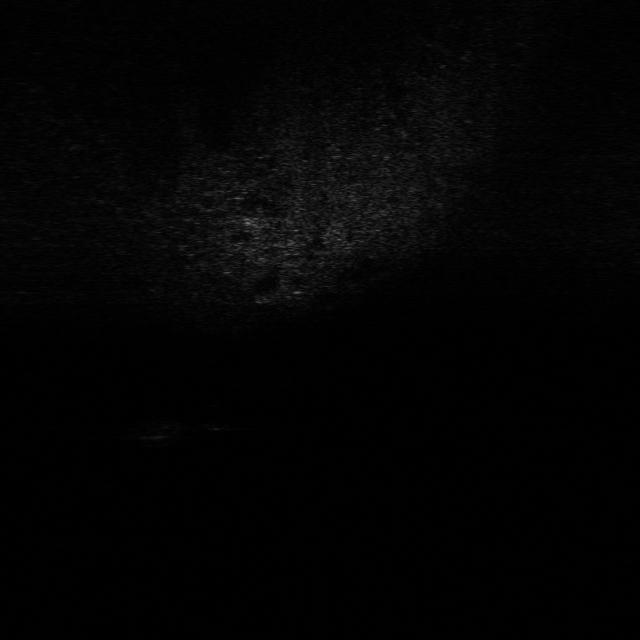ball: (204, 402, 236, 432)
circle cage: (128, 414, 186, 448)
